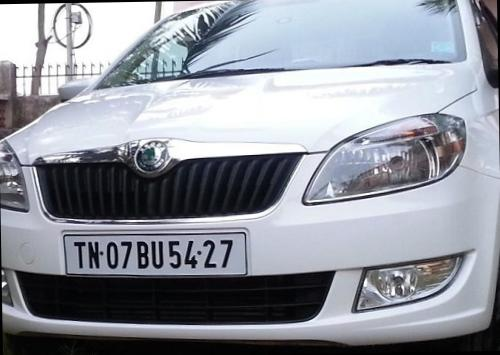plate: (56, 220, 266, 292)
